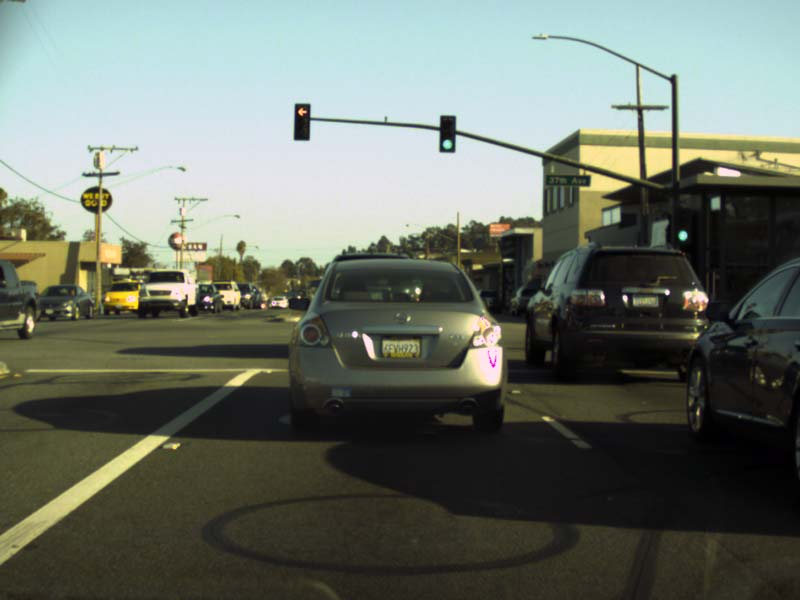Green: (675, 207, 691, 243), (440, 115, 455, 151)
Red: (293, 103, 309, 140)
